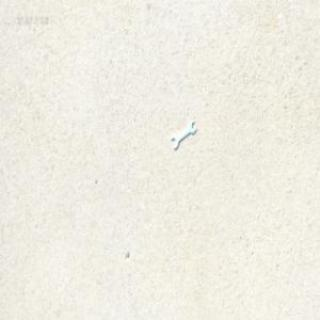Wrenchtrack_idkeyframe: (171, 119, 194, 149)
